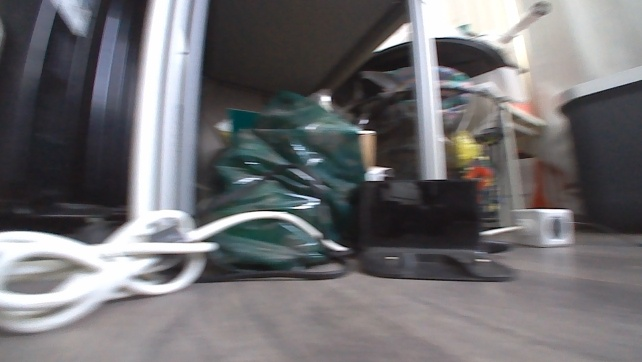charger: (352, 176, 518, 286)
wire: (0, 205, 353, 338), (478, 223, 521, 239)
